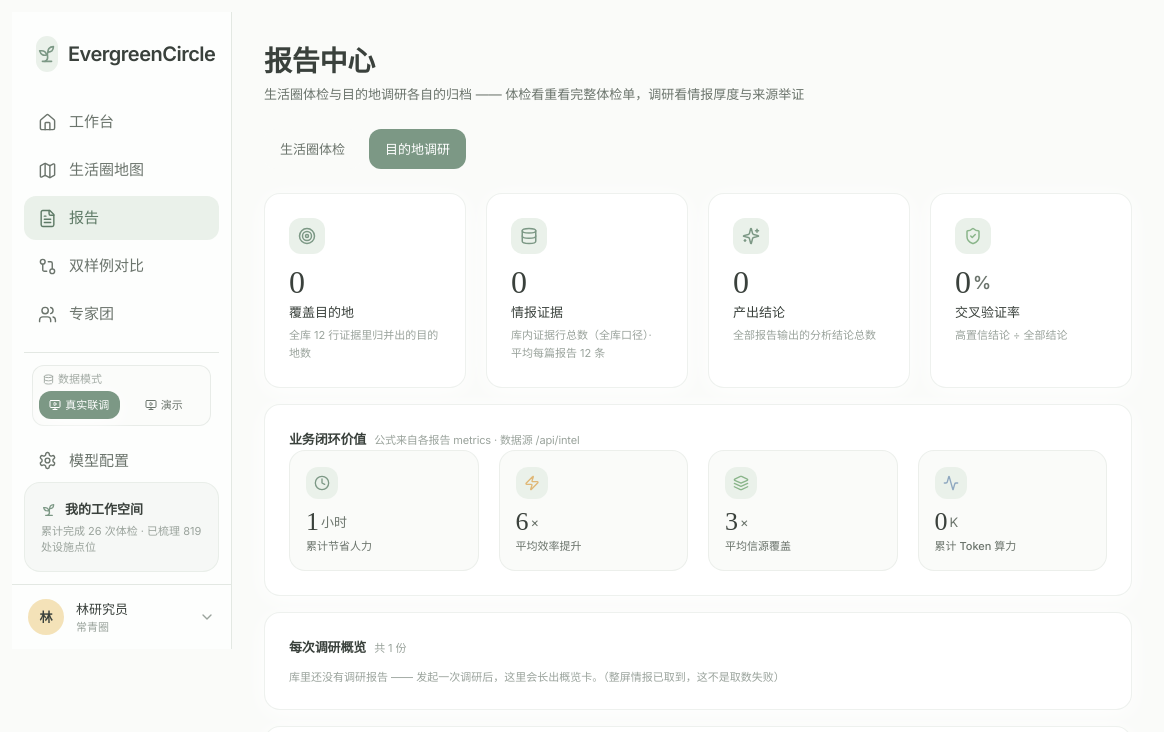
Scenario: 数据模式开关 → 调研屏（用户入口全链路） › 点「真实联调」切回来：说明态消失、重新取数
Expected: the heading "每次调研概览" is shown, [289,639,366,655]
Click the button "演示" at (164, 405), box [124,391,204,419]
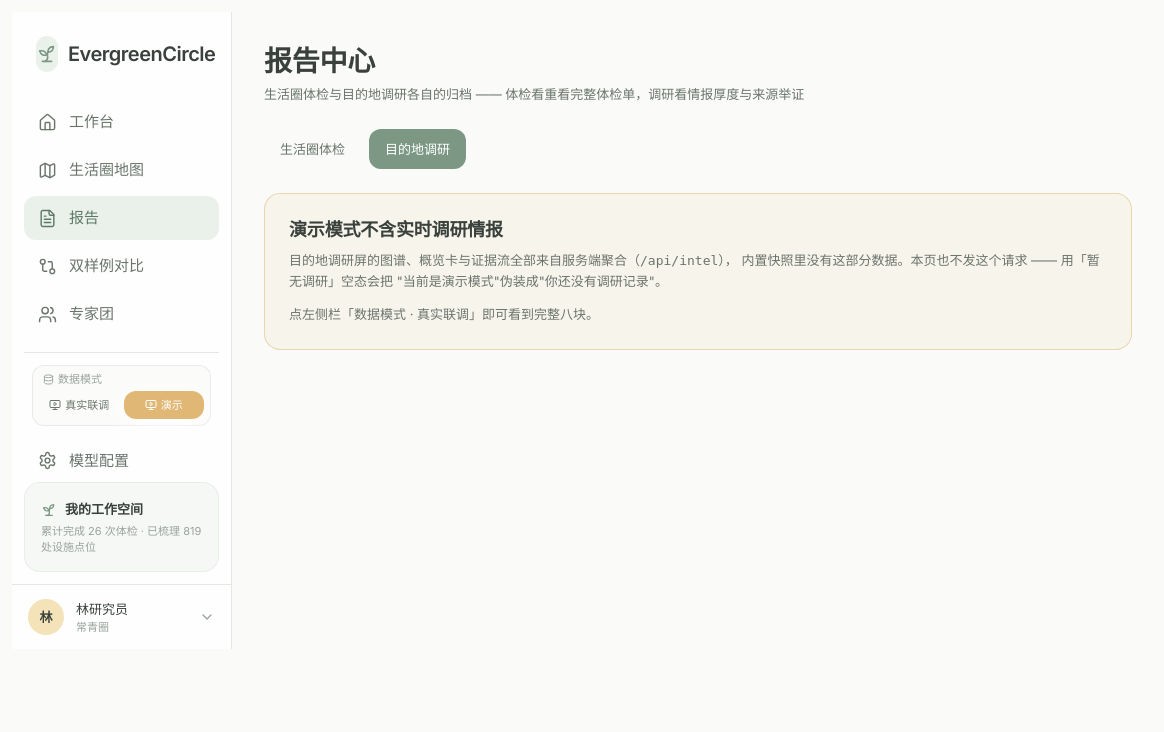
Now the heading "演示模式不含实时调研情报" is shown, box [289,219,503,240]
Click the button "真实联调" at (79, 405), box [39,391,120,419]
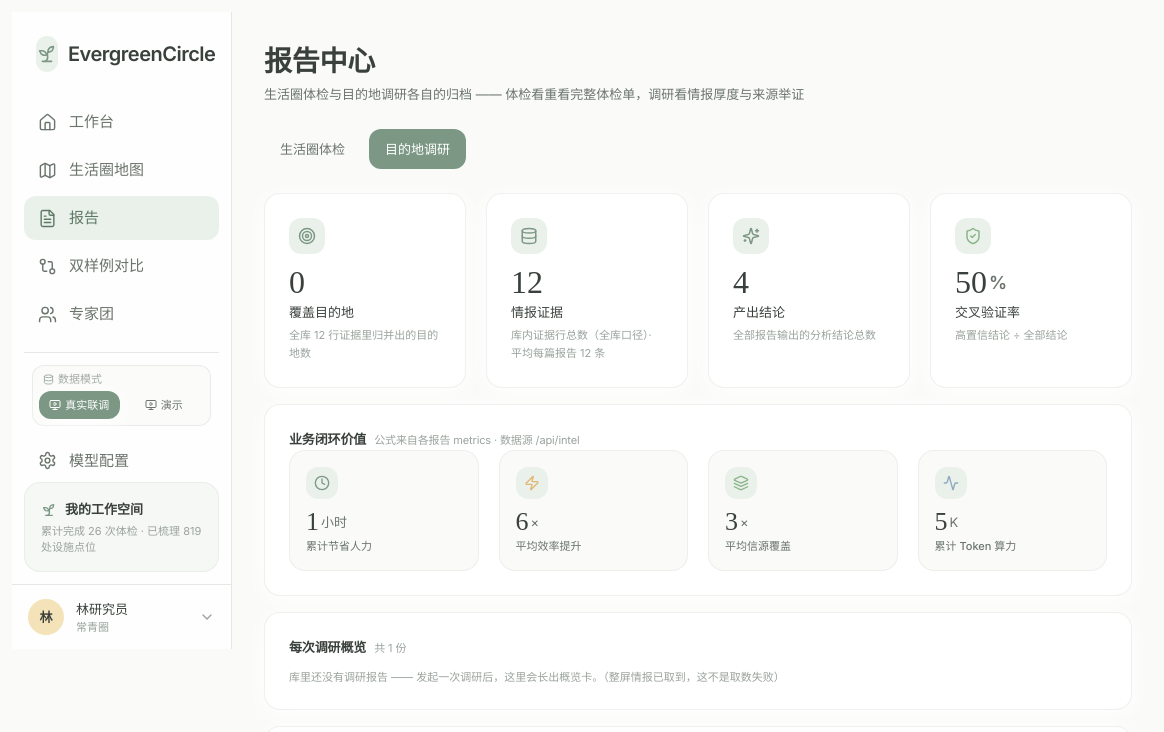
Now the heading "每次调研概览" is shown, box [289,639,366,655]
Now the heading "演示模式不含实时调研情报" is gone
